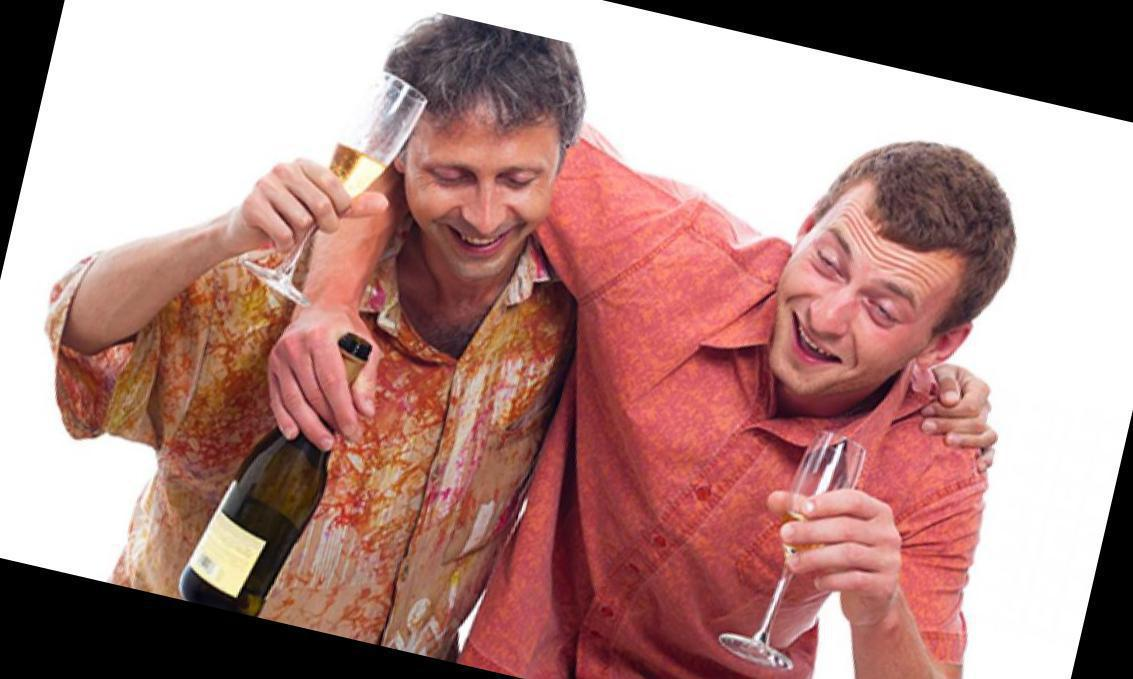Drunk: (783, 186, 922, 389), (416, 100, 556, 270)
